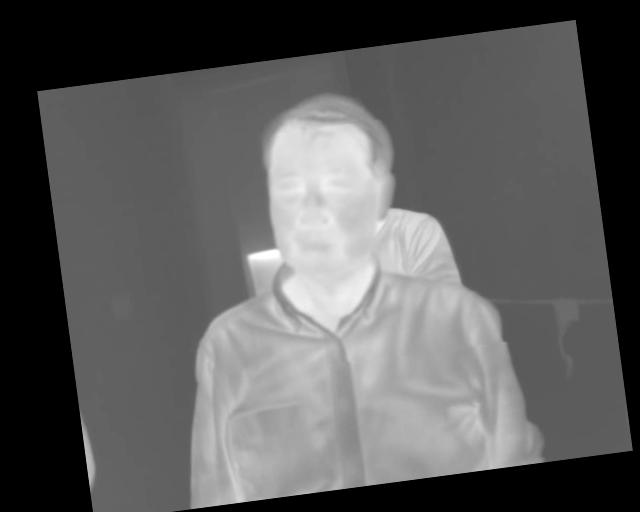face: (254, 81, 409, 285)
